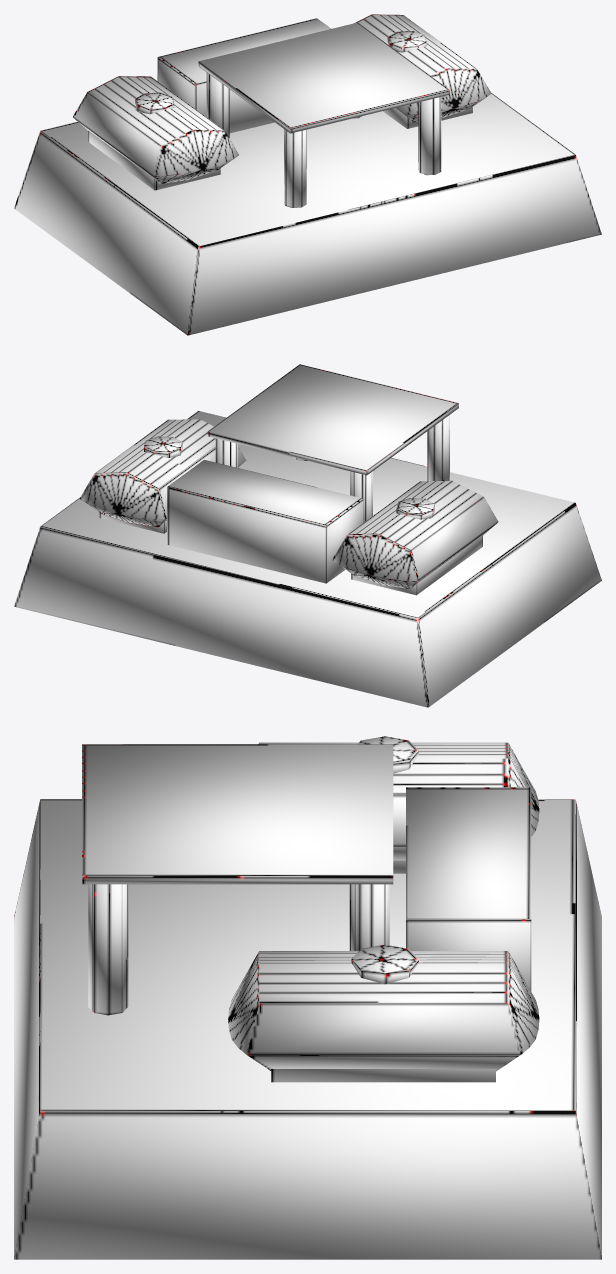
Rendered from fueldepot.fbx.
3 views of the same model, one above another, from view 1: azimuth 30°, elevation 25°; view 2: azimuth 150°, elevation 25°; view 3: azimuth 270°, elevation 25° (orthographic). The views are drawn at different scales.
Parts seen in each view (by area): view 1: depot; view 2: depot; view 3: depot.
Part boxes in pixels (<box>): depot: <box>14,14,601,335</box>; depot: <box>14,364,601,707</box>; depot: <box>14,736,601,1259</box>.
Size of the model in its own units: 5.2 by 1.95 by 3.78.
1 material, 1 textured.
